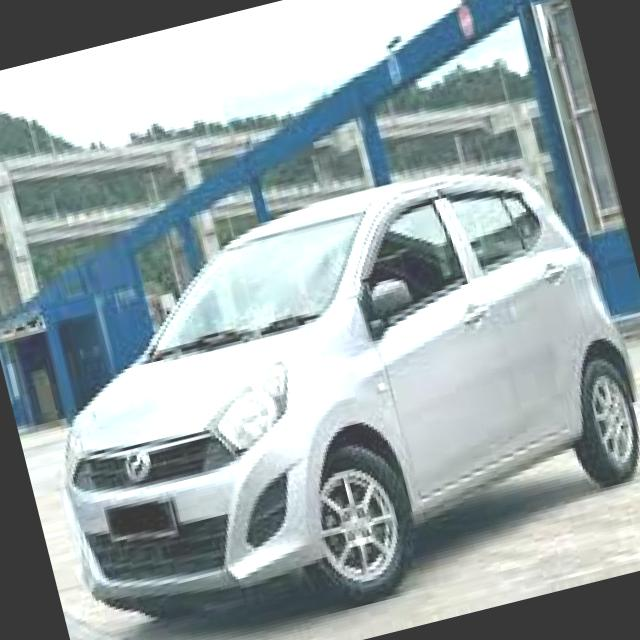PeroduaAxia: (4, 131, 640, 640)
